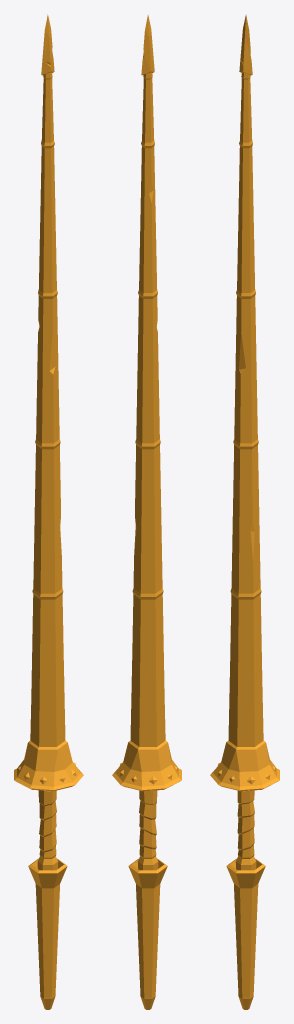
File: SM_Lance_War_Fantasy.fbx
3 views of the same model, side by side, from view 1: azimuth 30°, elevation 25°; view 2: azimuth 210°, elevation 25°; view 3: azimuth 330°, elevation 25° (orthographic).
Visible parts, largest first — view 1: lance-war-fantasy; view 2: lance-war-fantasy; view 3: lance-war-fantasy.
Boxes of the visible parts, box(x1,y1,x2,y2) form: lance-war-fantasy: box(14, 14, 83, 1009); lance-war-fantasy: box(112, 14, 181, 1009); lance-war-fantasy: box(210, 14, 279, 1009).
Size of the model in its own units: 0.1878 by 2.91 by 0.1849.
